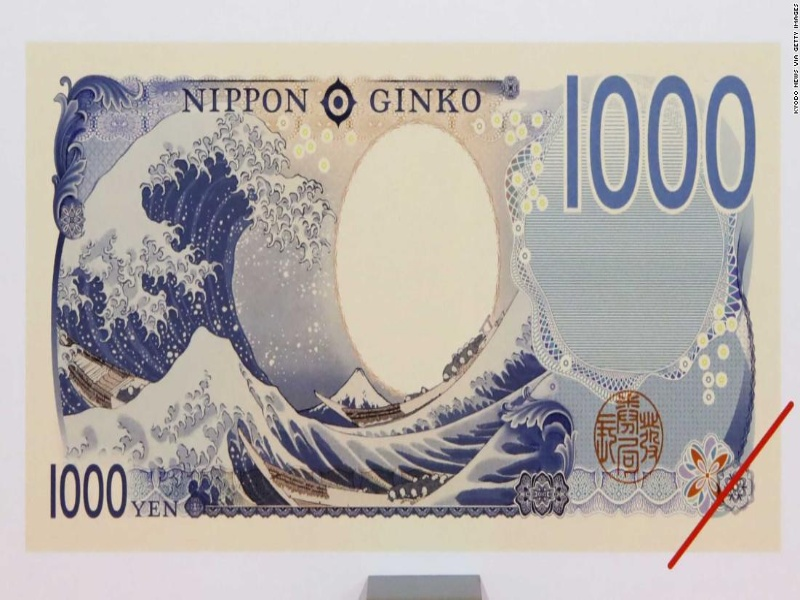cash: (26, 41, 780, 553)
